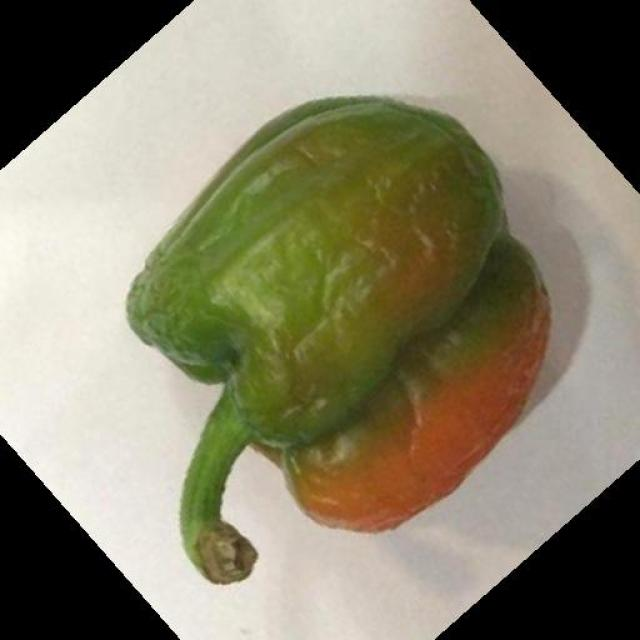Stale_Capsicum: (164, 71, 533, 499)
